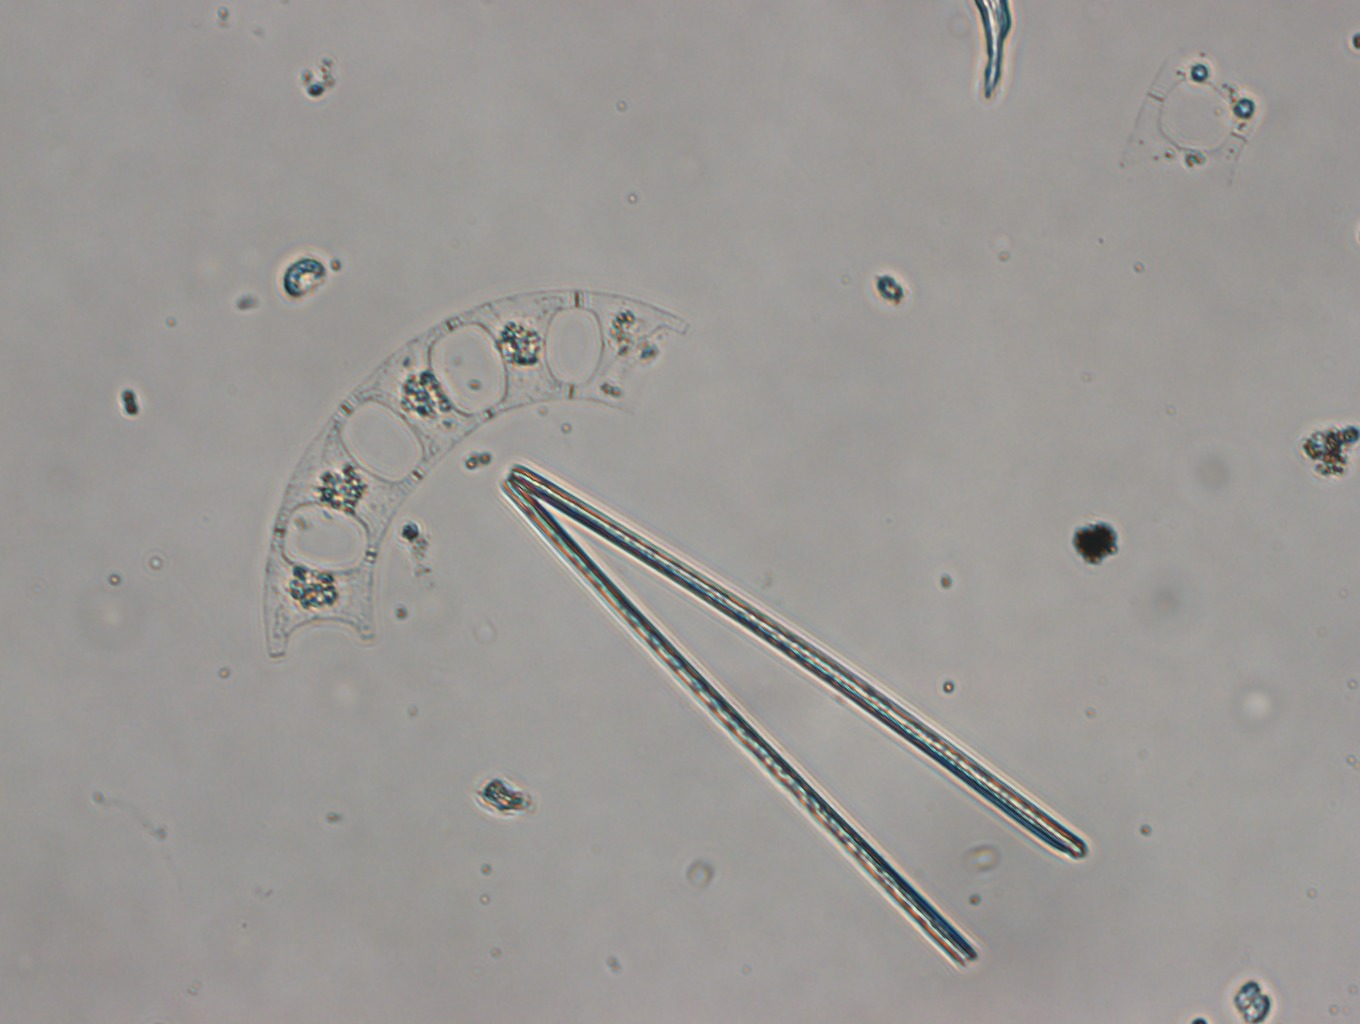eucampia: (249, 278, 690, 658)
thalassionema frauenfeldii: (489, 459, 1099, 975)
